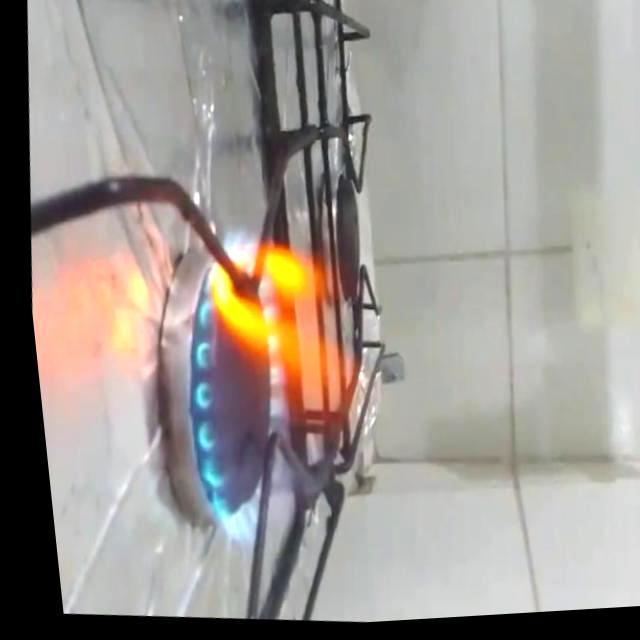fire: (154, 212, 390, 560)
